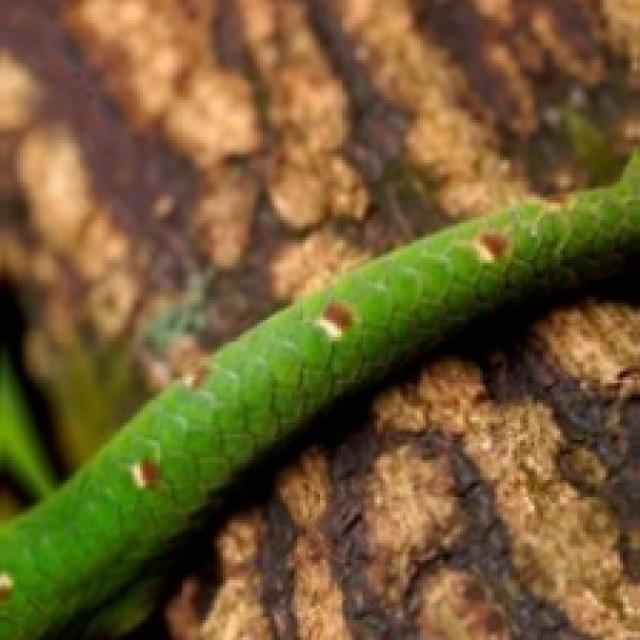north ph temple pitviper: (0, 156, 640, 639)
